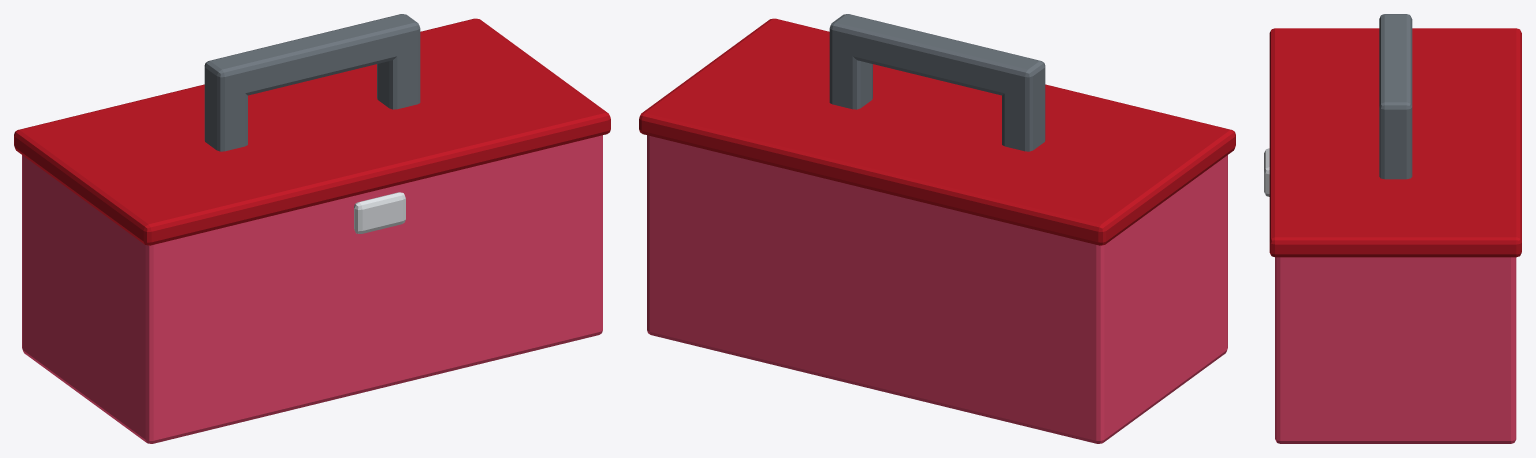
The model's file is toolbox.glb.
3 views of the same model, side by side, from view 1: azimuth 30°, elevation 25°; view 2: azimuth 150°, elevation 25°; view 3: azimuth 270°, elevation 25° (orthographic). The views are drawn at different scales.
Parts seen in each view (by area): view 1: toolbox; view 2: toolbox; view 3: toolbox.
Boxes of the visible parts, left/top/right/bottom form: toolbox: left=14, top=14, right=610, bottom=443; toolbox: left=639, top=14, right=1235, bottom=443; toolbox: left=1264, top=14, right=1521, bottom=443.
Bounding box in the file's own units: 0.46 × 0.285 × 0.235.
